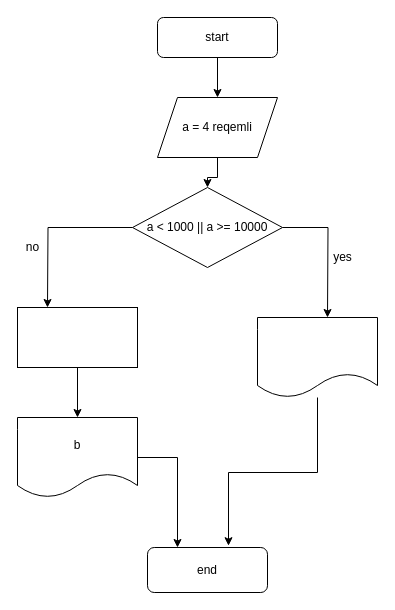
The diagram is 395 pixels wide and 610 high, and some of its shapes have lost their labels. The centre of each missing label's shape, as x and y in pixels:
"4 reqemli deyil" belongs at pixel 317 357.
"int b = a + 70000; b = b * 10 + 8;" belongs at pixel 77 337.
